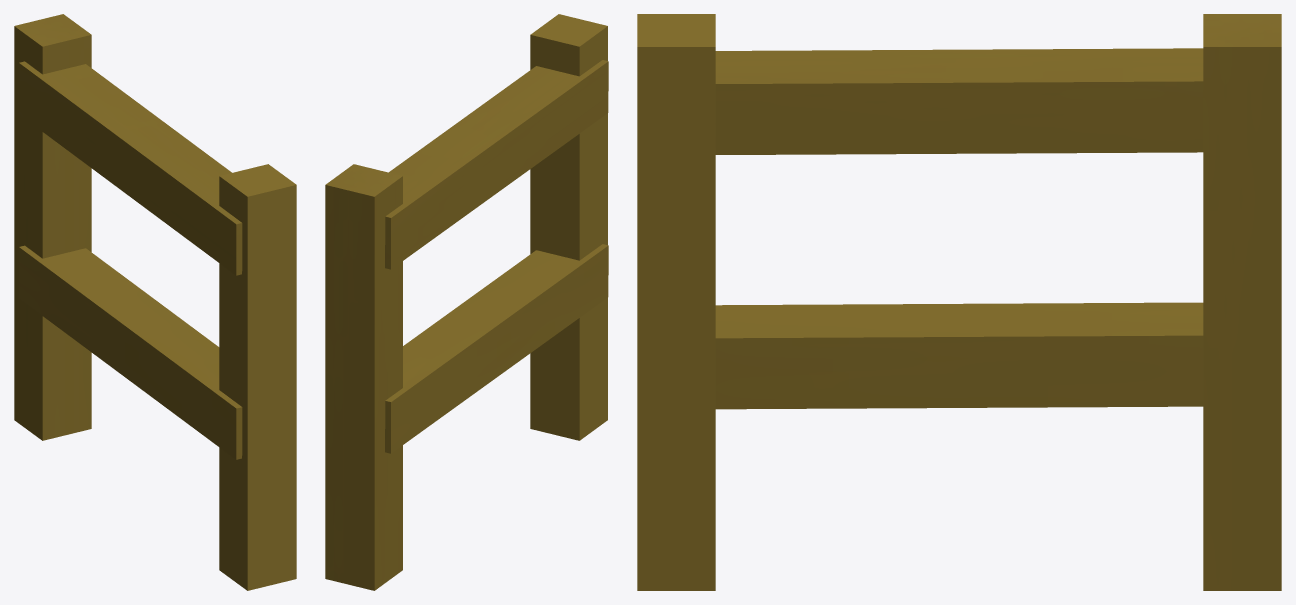
Rendered from hekwerk.fbx.
3 renders of one model, left to right at view 1: azimuth 30°, elevation 25°; view 2: azimuth 150°, elevation 25°; view 3: azimuth 270°, elevation 25°, orthographic. The views are drawn at different scales.
Visible parts, largest first — view 1: Cube, Cube.003, Cube.001, Cube.002; view 2: Cube.003, Cube, Cube.001, Cube.002; view 3: Cube.002, Cube.001, Cube, Cube.003.
Boxes of the visible parts, bbox=[...] form: Cube: bbox=[219, 164, 296, 590]; Cube.003: bbox=[14, 14, 91, 440]; Cube.001: bbox=[18, 61, 242, 275]; Cube.002: bbox=[18, 245, 242, 459]; Cube.003: bbox=[325, 164, 402, 590]; Cube: bbox=[530, 14, 607, 440]; Cube.001: bbox=[385, 60, 608, 269]; Cube.002: bbox=[385, 244, 608, 453]; Cube.002: bbox=[715, 302, 1203, 409]; Cube.001: bbox=[715, 48, 1203, 154]; Cube: bbox=[637, 14, 715, 590]; Cube.003: bbox=[1203, 14, 1281, 590].
Size of the model in its own units: 68.24 by 467 by 501.
Materials: 1 (1 with a texture image).
